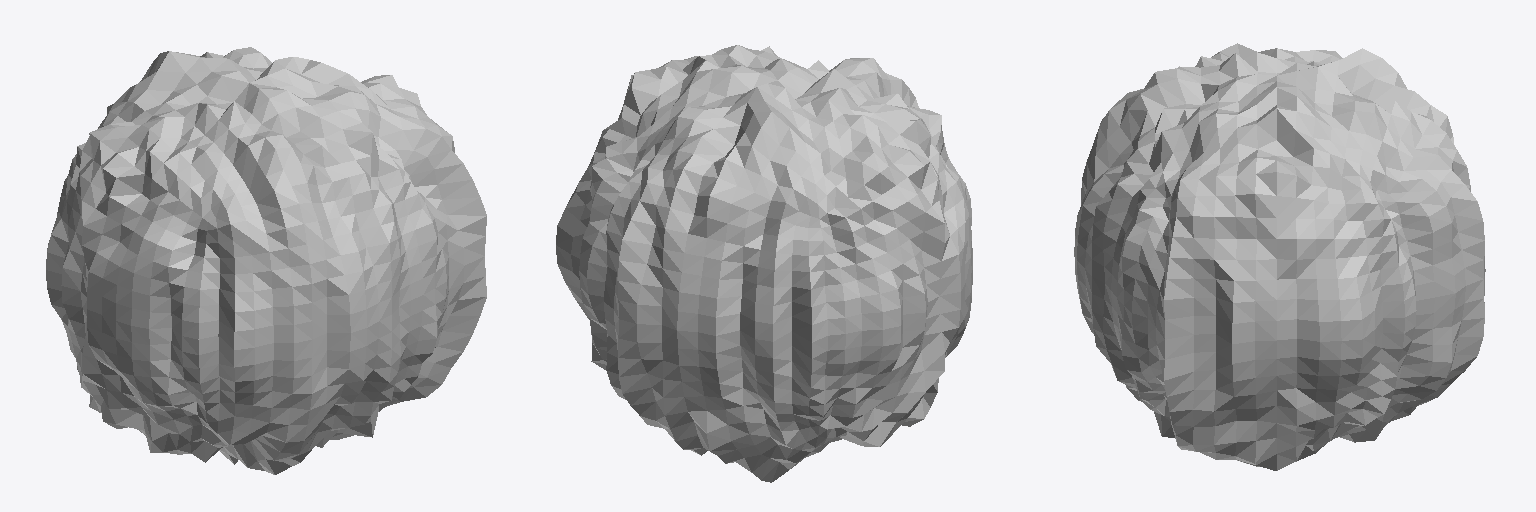
Rendered from asteroid28.obj.
3 renders of one model, left to right at view 1: azimuth 30°, elevation 25°; view 2: azimuth 150°, elevation 25°; view 3: azimuth 270°, elevation 25°, orthographic.
Visible parts, largest first — view 1: Cube_Cube.002; view 2: Cube_Cube.002; view 3: Cube_Cube.002.
Boxes of the visible parts, <box> form: Cube_Cube.002: <box>46,47,486,474</box>; Cube_Cube.002: <box>556,45,972,482</box>; Cube_Cube.002: <box>1074,43,1485,470</box>.
Bounding box in the file's own units: 1.8 × 1.76 × 1.77.